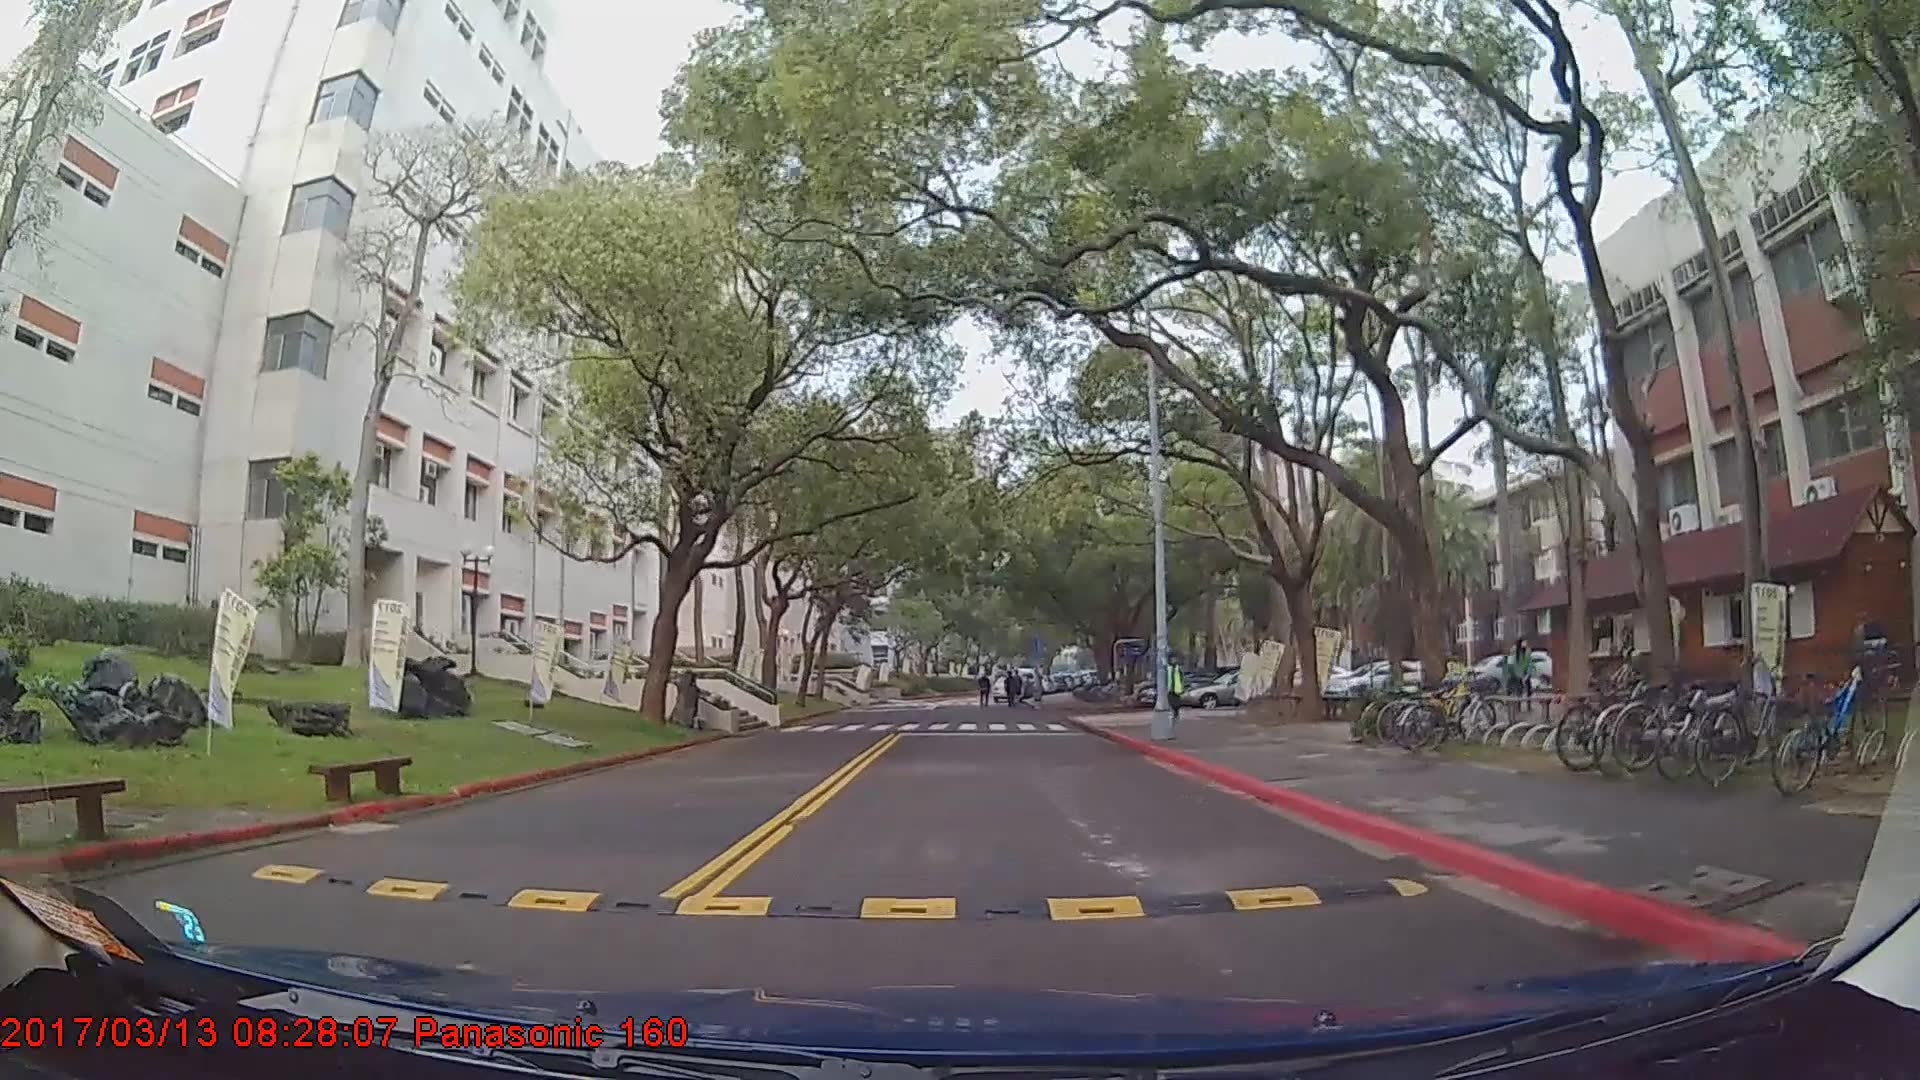vehicle: (1323, 659, 1429, 705), (1182, 667, 1305, 707)
